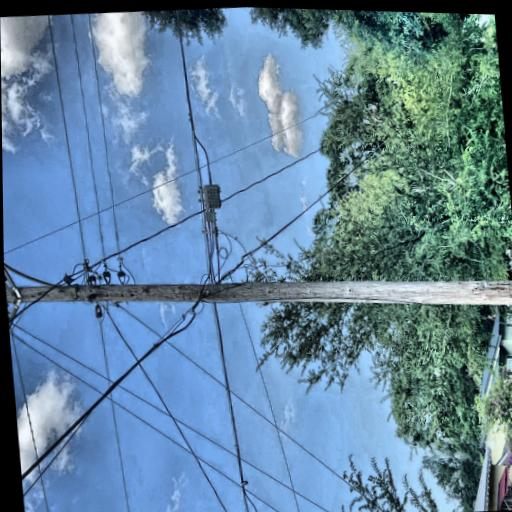insulator: (55, 37, 67, 50), (105, 97, 117, 109), (76, 33, 87, 46)
pole: (38, 51, 129, 512)
street light: (75, 103, 144, 219)
